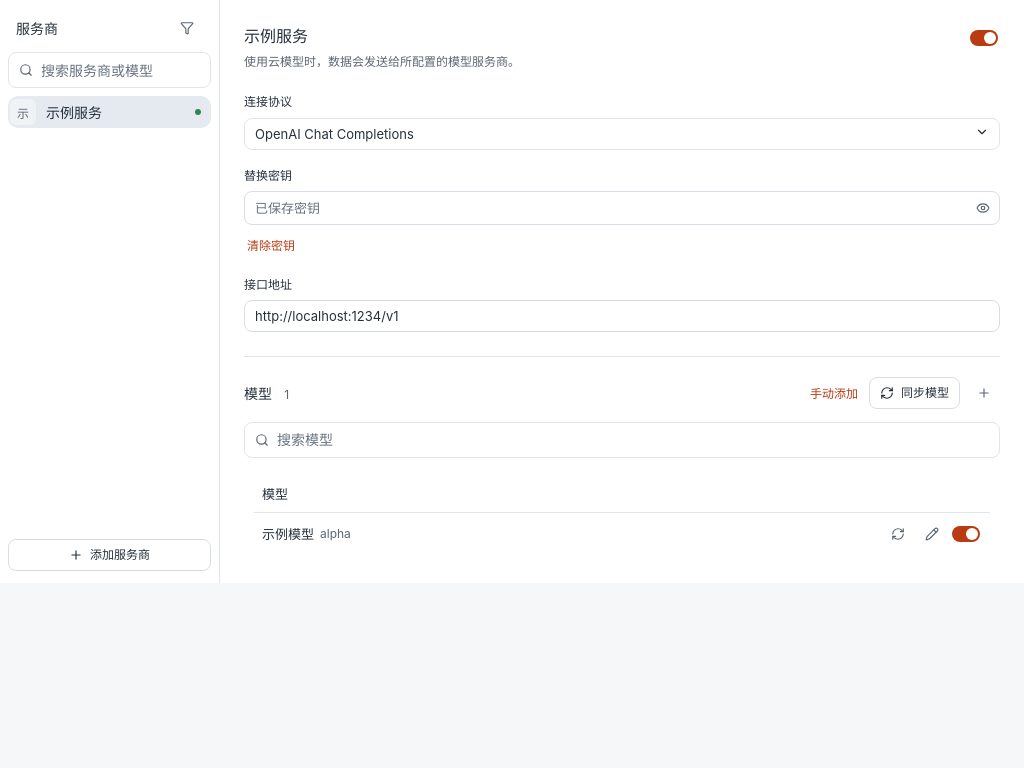
Test: 目录勾选后确认添加并保留元数据，常驻加号可再次进入目录
Click the button named "添加模型": {"x": 984, "y": 393} [968,377,1000,409]
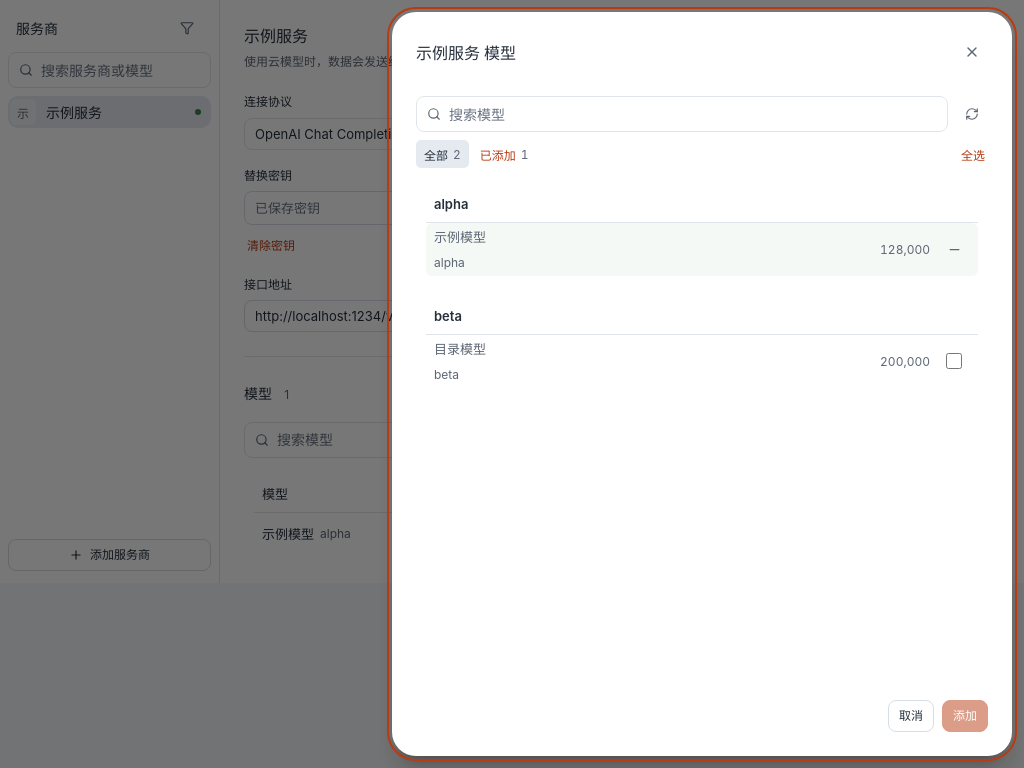
Click the checkbox named "选择目录模型": {"x": 954, "y": 362} [946,354,962,370]
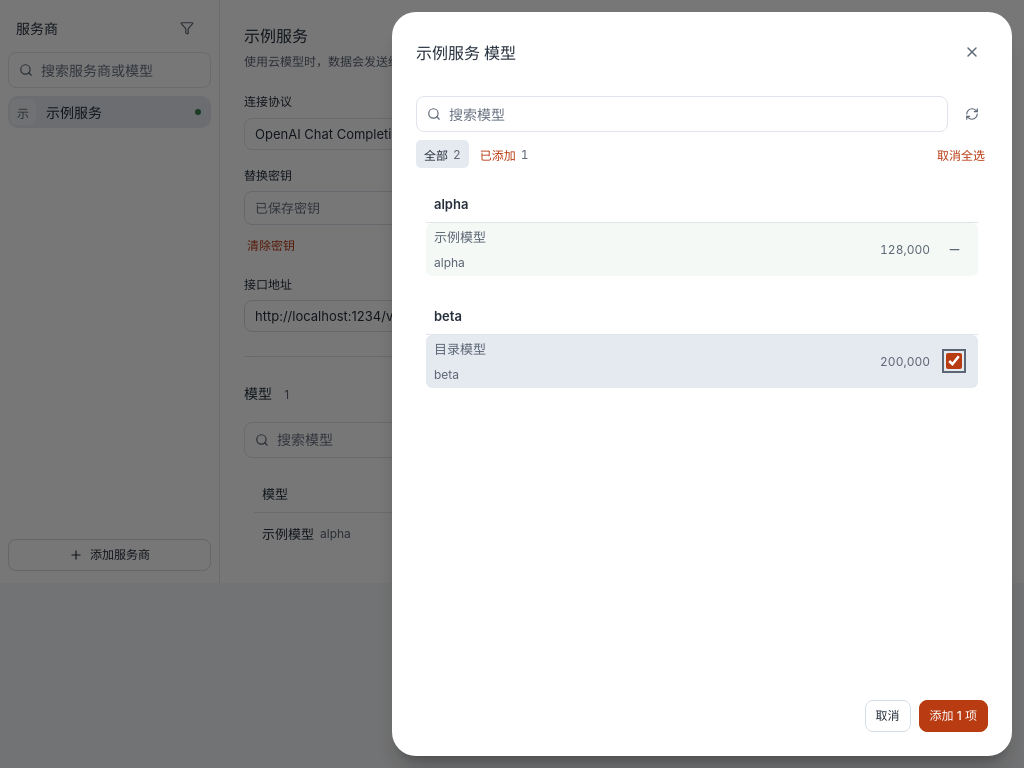
Click the button "添加 1 项": {"x": 953, "y": 716} [919,700,988,732]
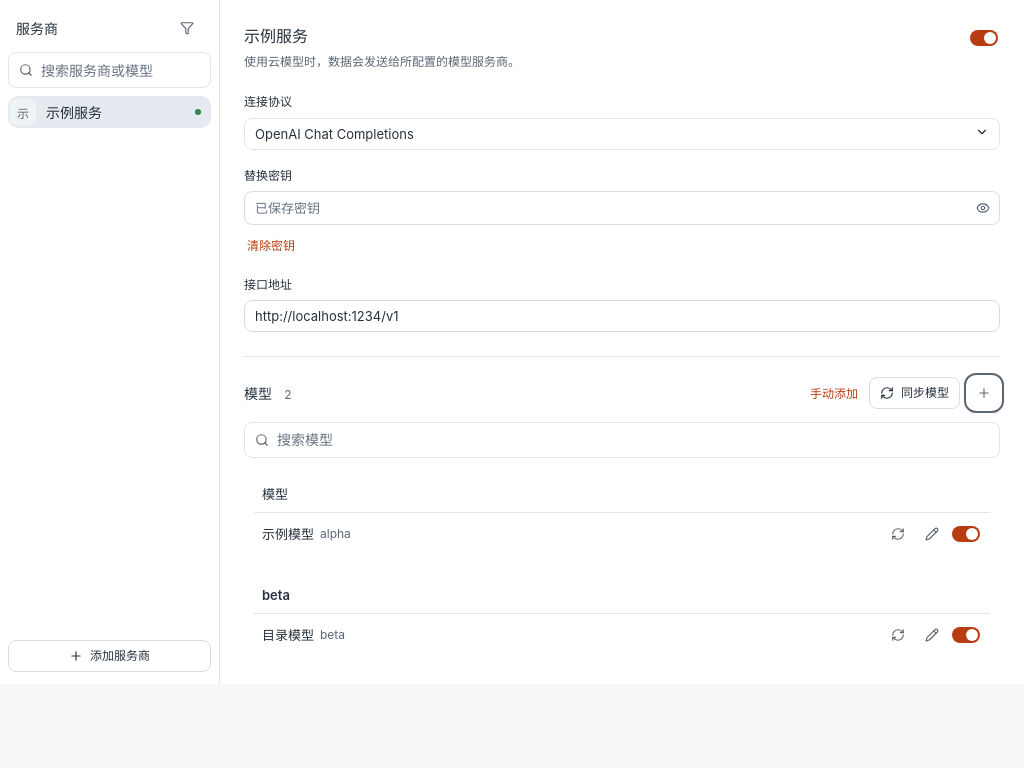
Expected: the heading "示例服务 模型" is gone
Click the button named "添加模型": {"x": 984, "y": 393} [968,377,1000,409]
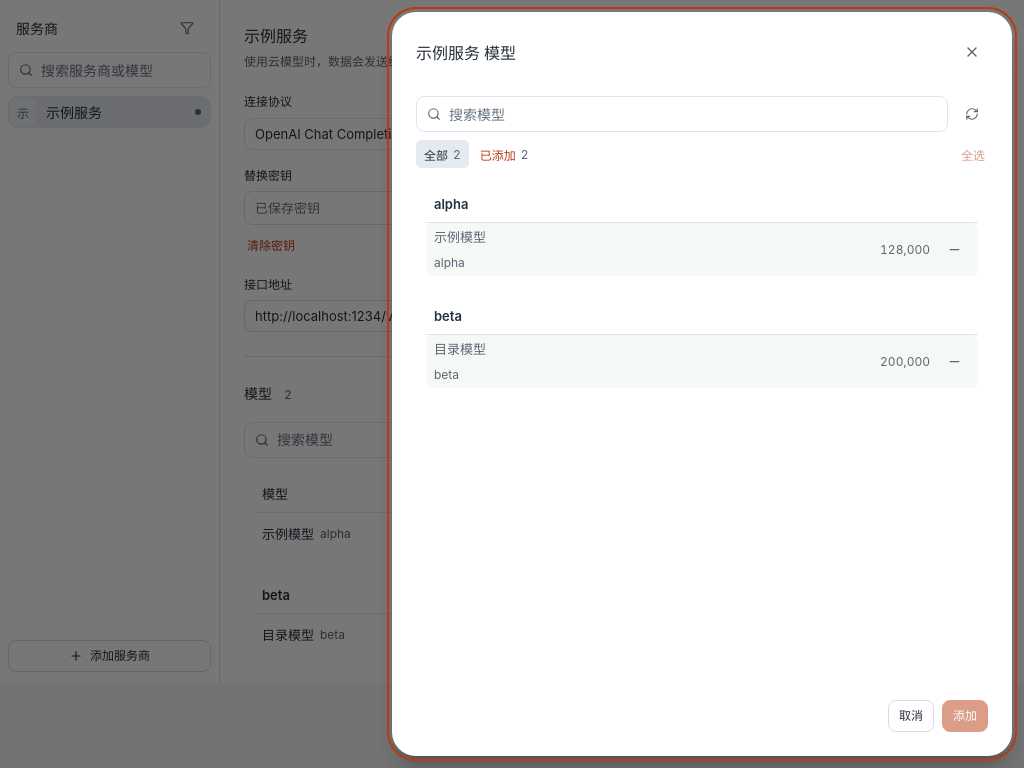
Click the button named "移除目录模型": {"x": 954, "y": 362} [938,346,970,378]
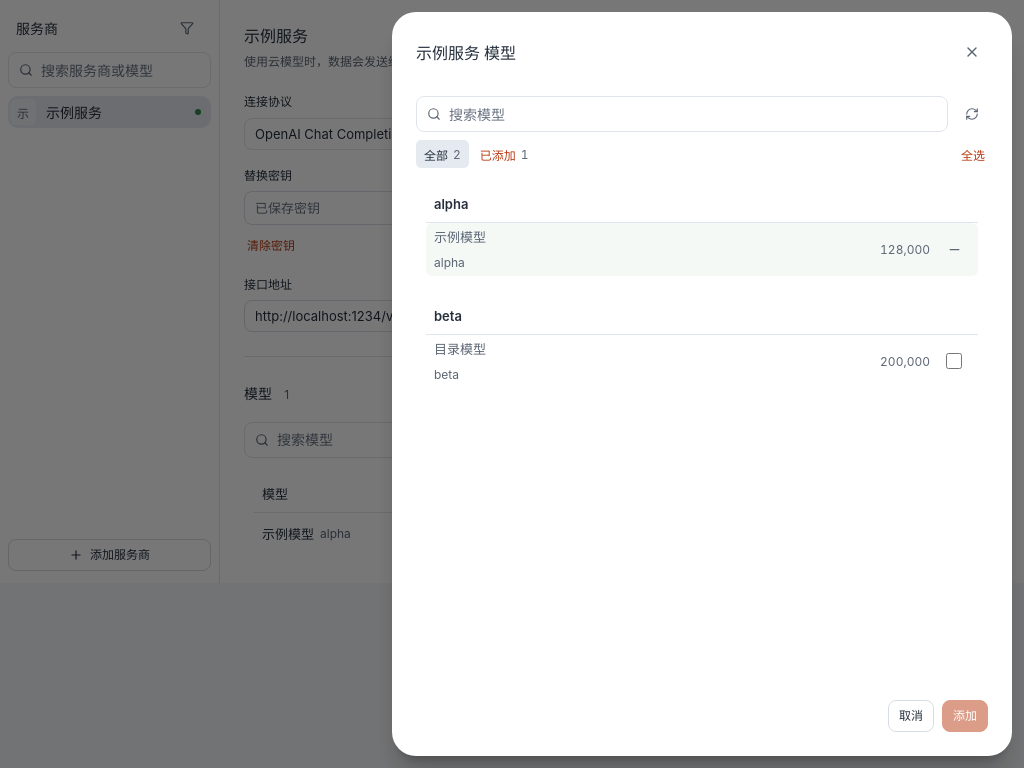
Expected: the checkbox named "选择目录模型" is not checked, [946,354,962,370]
